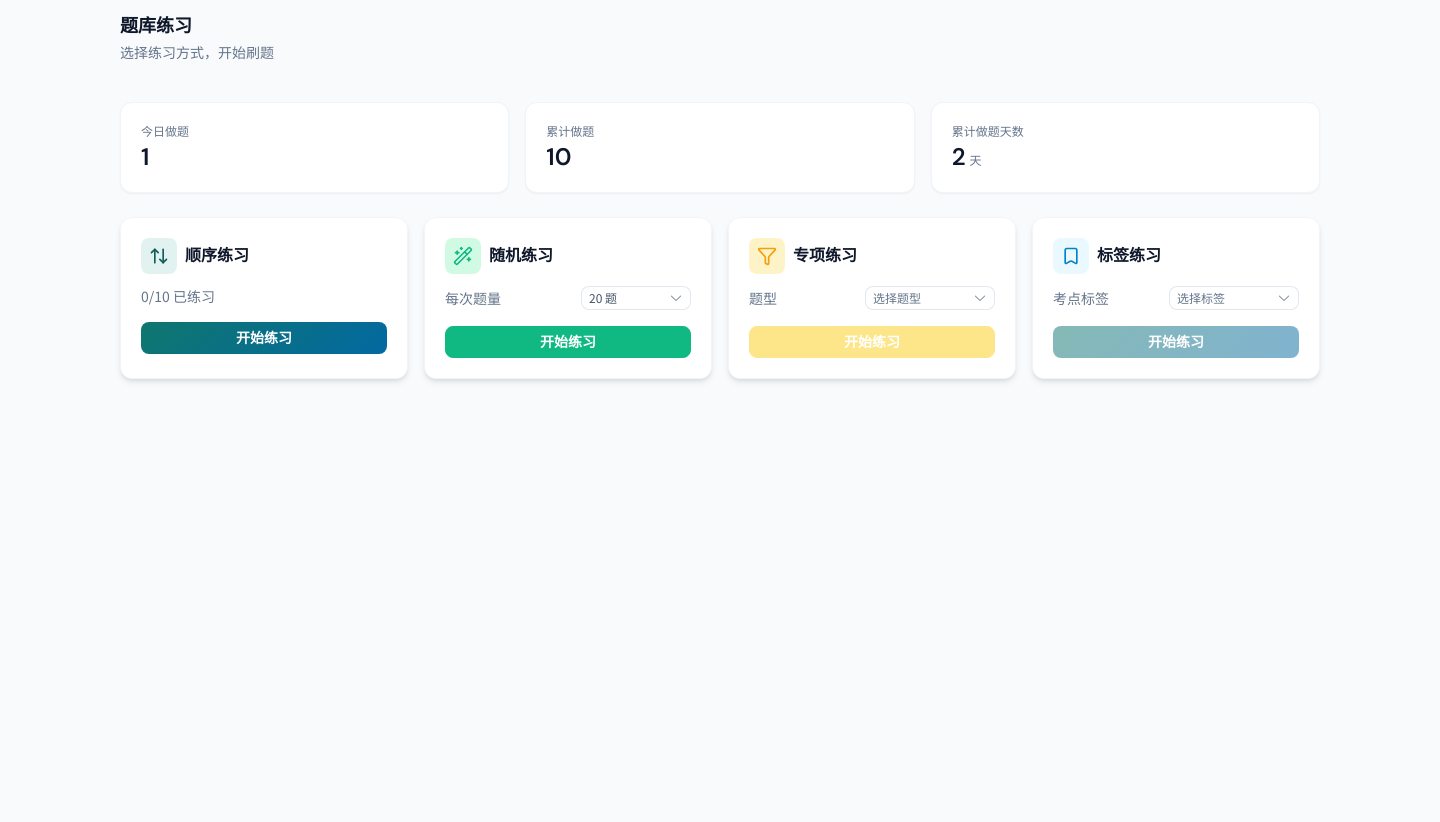
Test: QuestionBank 外围交互接入（#616） › 知识点为 'result' 触发：进题不查；提交后按结果题目查并渲染考点
Click the button "开始练习" below "0/10 已练习".
click(264, 338)  # box [141,322,387,354]
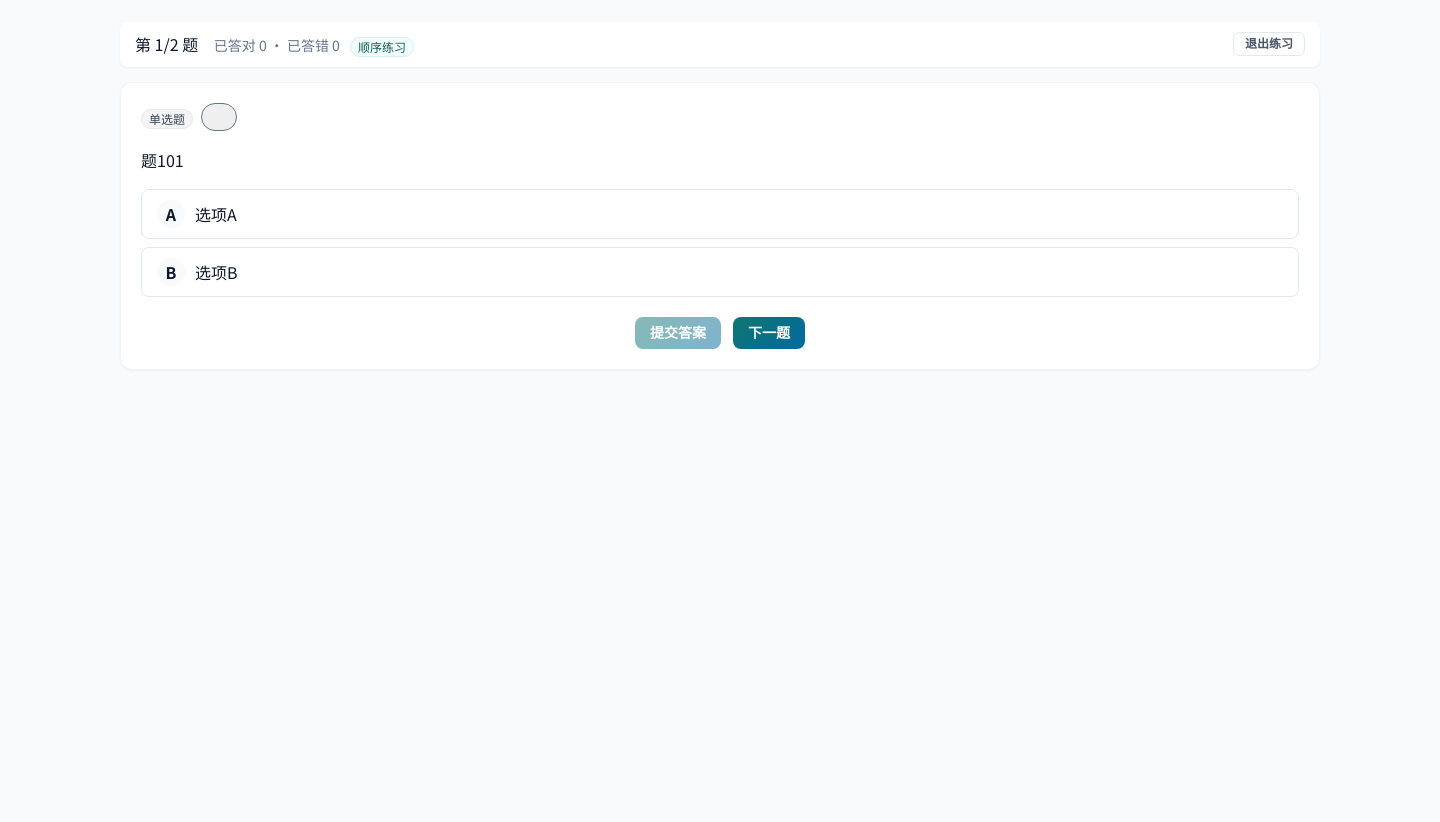
Click the element showing "A 选项A".
click(720, 214)  # box [141,190,1299,240]
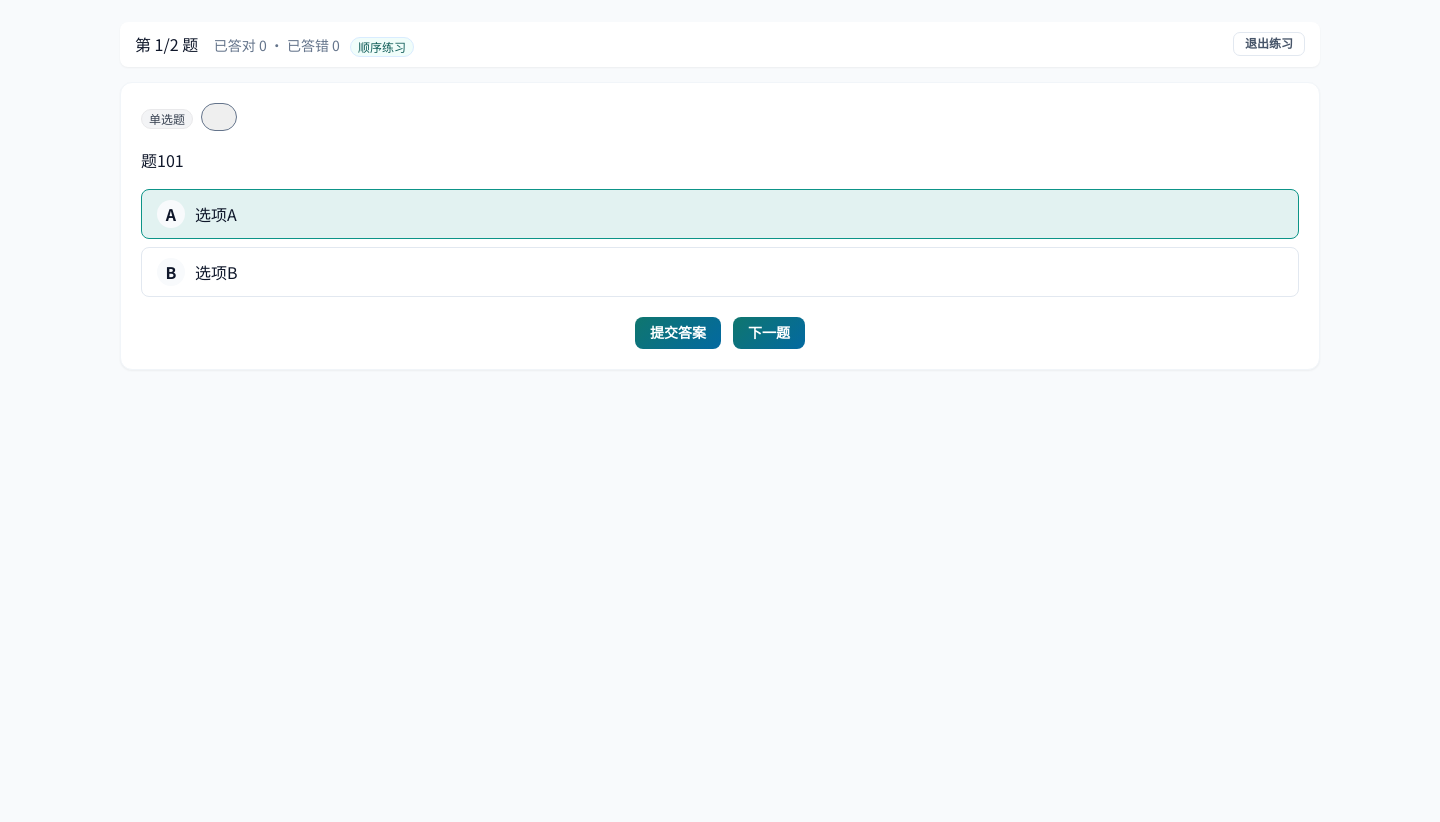
Click the button "提交答案".
click(678, 334)  # box [635,318,721,350]
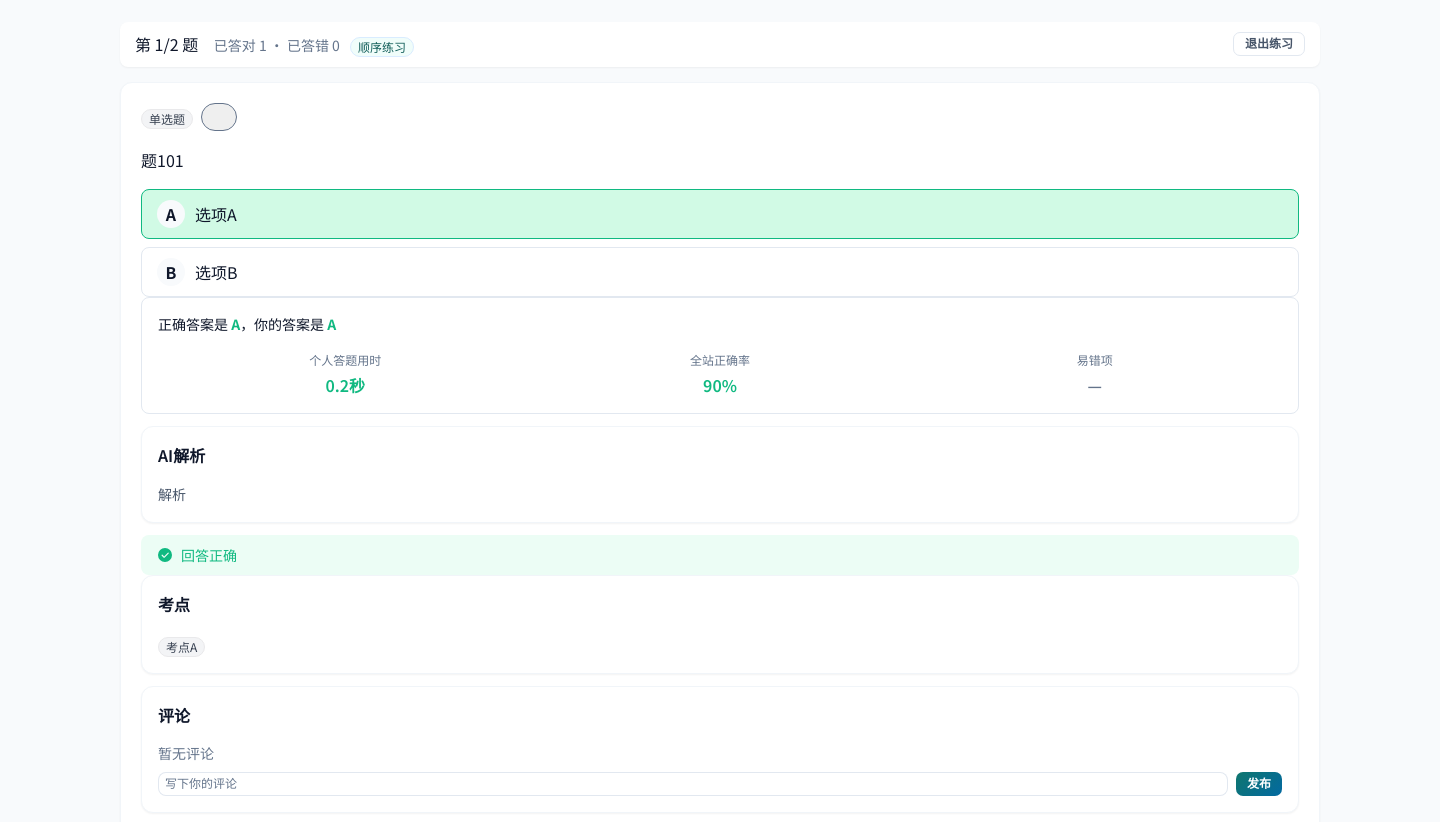
Check: the text "考点A" is shown, box [166,640,197,652]
